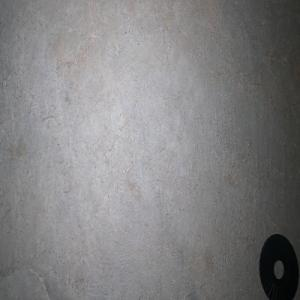Washer: (258, 233, 299, 300)
